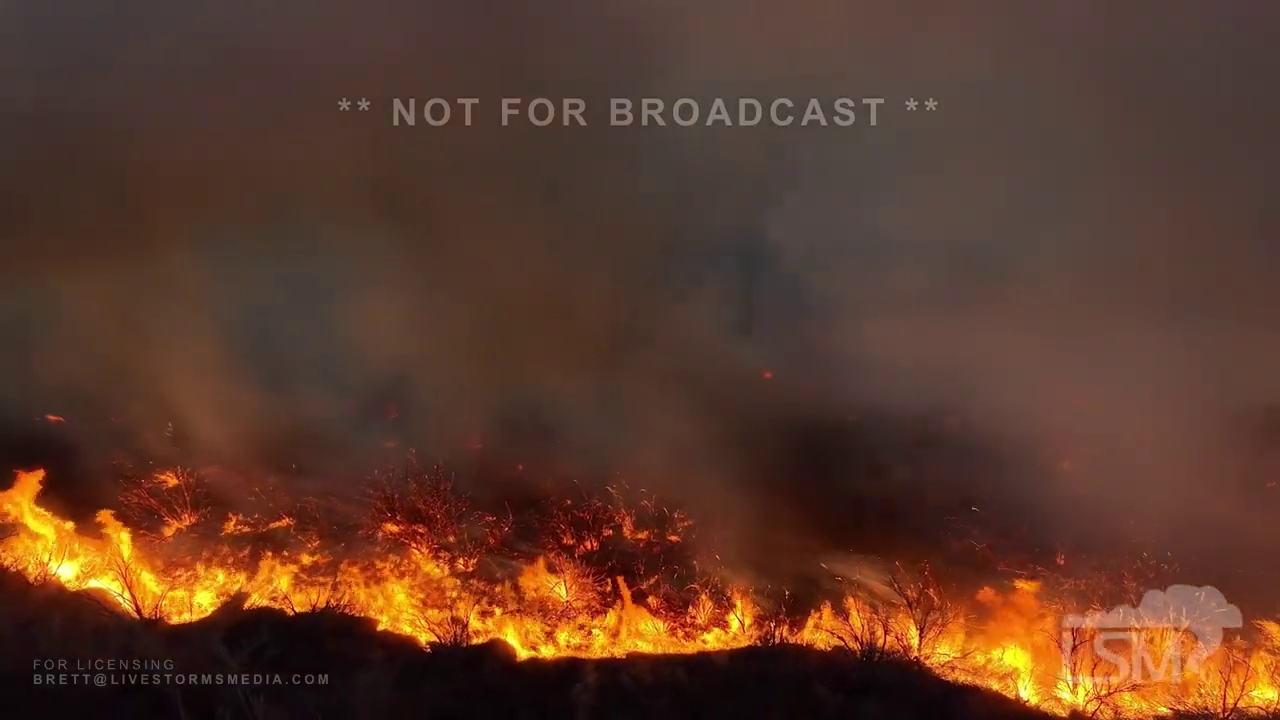forest_fire: (0, 466, 1279, 717), (1094, 580, 1105, 583), (1217, 627, 1221, 634), (1170, 588, 1173, 592), (1208, 619, 1210, 622)
